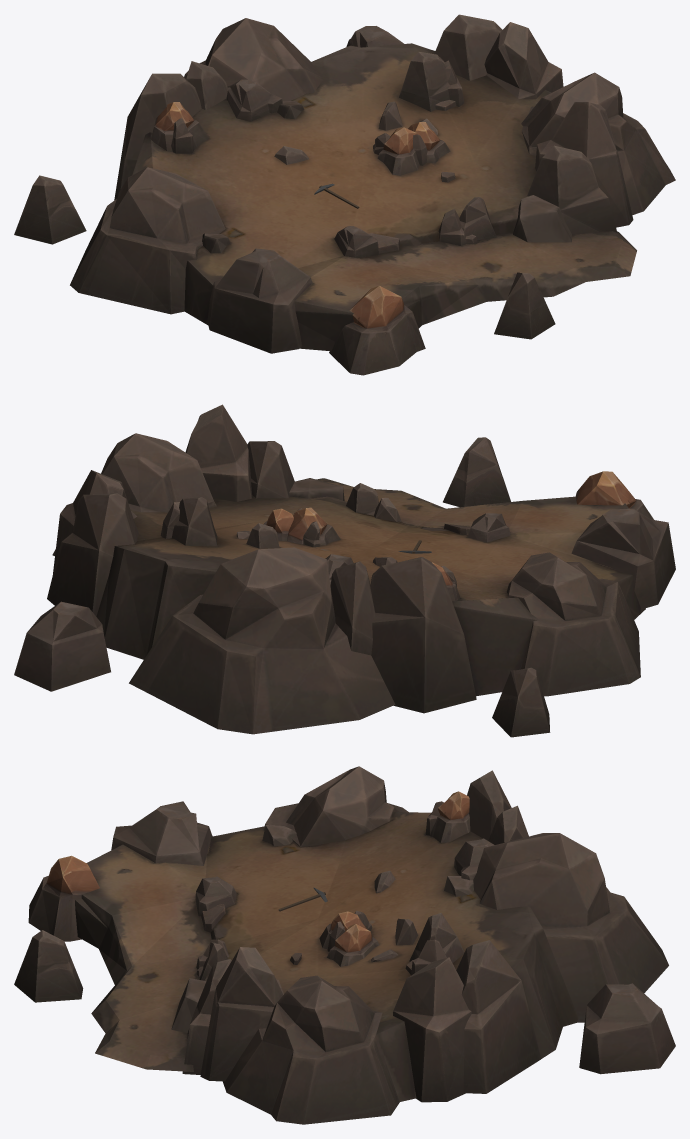
The model's file is WMCopper1.FBX.
3 views of the same model, one above another, from view 1: azimuth 30°, elevation 25°; view 2: azimuth 150°, elevation 25°; view 3: azimuth 270°, elevation 25° (orthographic). The views are drawn at different scales.
Visible parts, largest first — view 1: WMCopper1; view 2: WMCopper1; view 3: WMCopper1.
Part boxes in pixels (box(x1,y1,x2,y2)): WMCopper1: box(14, 14, 675, 375); WMCopper1: box(14, 404, 675, 737); WMCopper1: box(14, 766, 675, 1124).
Size of the model in its own units: 1.23 by 0.2849 by 1.19.
Materials: 1 (1 with a texture image).
